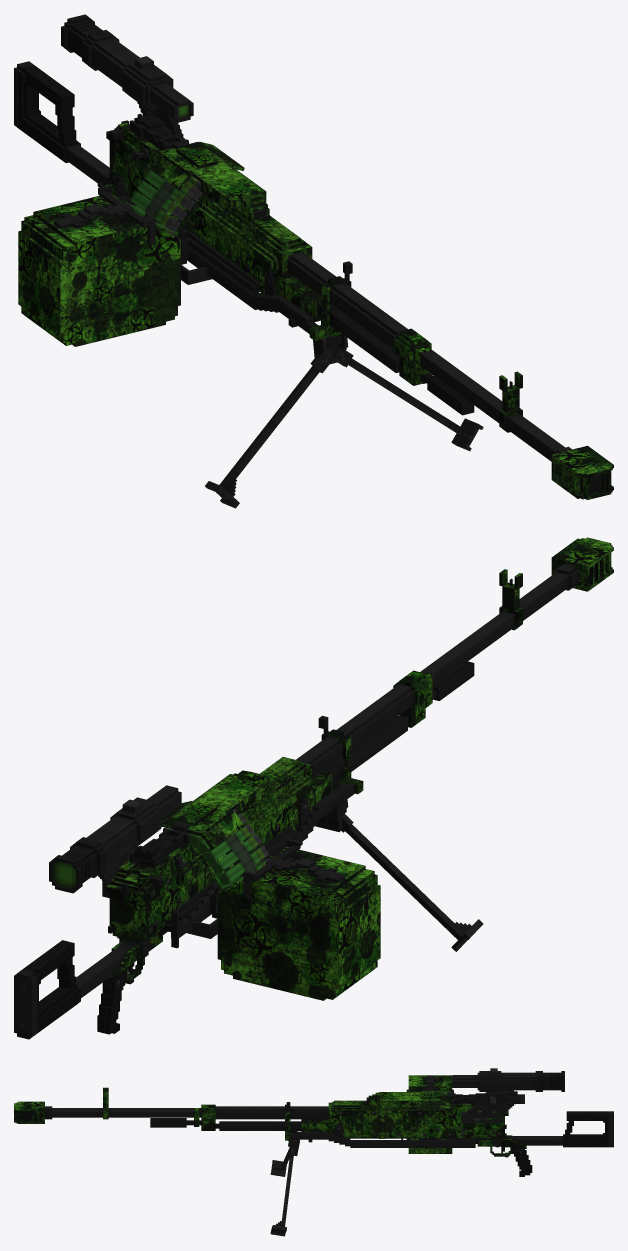
File: RD_ZKORD.glb
3 renders of one model, top to bottom at view 1: azimuth 30°, elevation 25°; view 2: azimuth 150°, elevation 25°; view 3: azimuth 270°, elevation 25°, orthographic. The views are drawn at different scales.
Parts seen in each view (by area): view 1: KORD, KORD_CLIP, KORD_SCOPE, KORD_COVER, KORD_DIPOD_LEG2, KORD_DIPOD_LEG1, KORD_BULLET02, KORD_BULLET03; view 2: KORD, KORD_CLIP, KORD_SCOPE, KORD_COVER, KORD_DIPOD_LEG2, KORD_BULLET02, KORD_BULLET03; view 3: KORD, KORD_SCOPE, KORD_COVER, KORD_CLIP, KORD_DIPOD_LEG1, KORD_COVER2, KORD_DIPOD_LEG2.
Part boxes in pixels (left/top/right/bottom): KORD: left=14, top=61, right=613, bottom=499; KORD_CLIP: left=18, top=185, right=212, bottom=346; KORD_SCOPE: left=61, top=14, right=193, bottom=139; KORD_COVER: left=146, top=140, right=269, bottom=219; KORD_DIPOD_LEG2: left=205, top=353, right=332, bottom=508; KORD_DIPOD_LEG1: left=331, top=346, right=483, bottom=451; KORD_BULLET02: left=130, top=191, right=180, bottom=231; KORD_BULLET03: left=137, top=180, right=187, bottom=221; KORD: left=14, top=537, right=613, bottom=1039; KORD_CLIP: left=187, top=839, right=380, bottom=1000; KORD_SCOPE: left=49, top=785, right=181, bottom=898; KORD_COVER: left=162, top=770, right=269, bottom=849; KORD_DIPOD_LEG2: left=341, top=814, right=483, bottom=951; KORD_BULLET02: left=218, top=845, right=268, bottom=885; KORD_BULLET03: left=211, top=834, right=261, bottom=874; KORD: left=14, top=1087, right=613, bottom=1176; KORD_SCOPE: left=452, top=1068, right=564, bottom=1123; KORD_COVER: left=366, top=1091, right=452, bottom=1107; KORD_CLIP: left=401, top=1075, right=453, bottom=1153; KORD_DIPOD_LEG1: left=270, top=1148, right=294, bottom=1236; KORD_COVER2: left=417, top=1101, right=450, bottom=1109; KORD_DIPOD_LEG2: left=270, top=1148, right=290, bottom=1176.
Size of the model in its own units: 0.9535 by 0.8262 by 3.25.
Materials: 1 (1 with a texture image).
